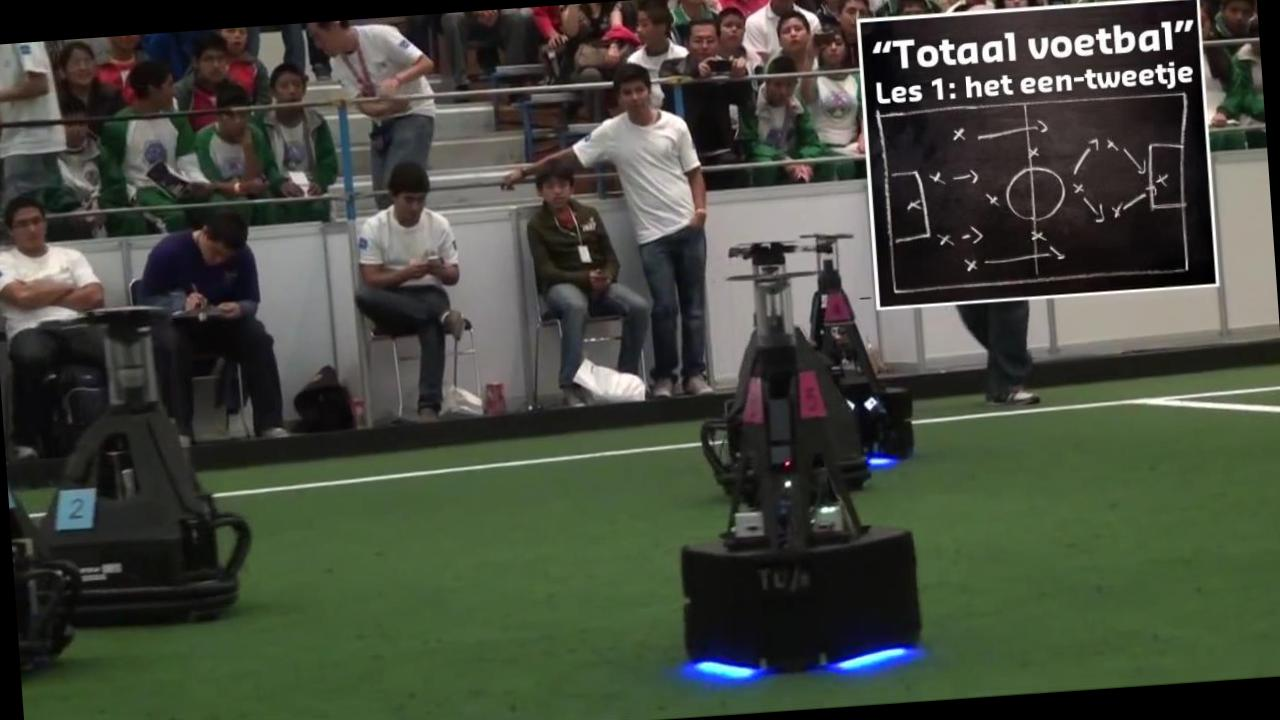robot: (681, 263, 921, 671), (42, 305, 251, 625), (805, 232, 914, 458)
